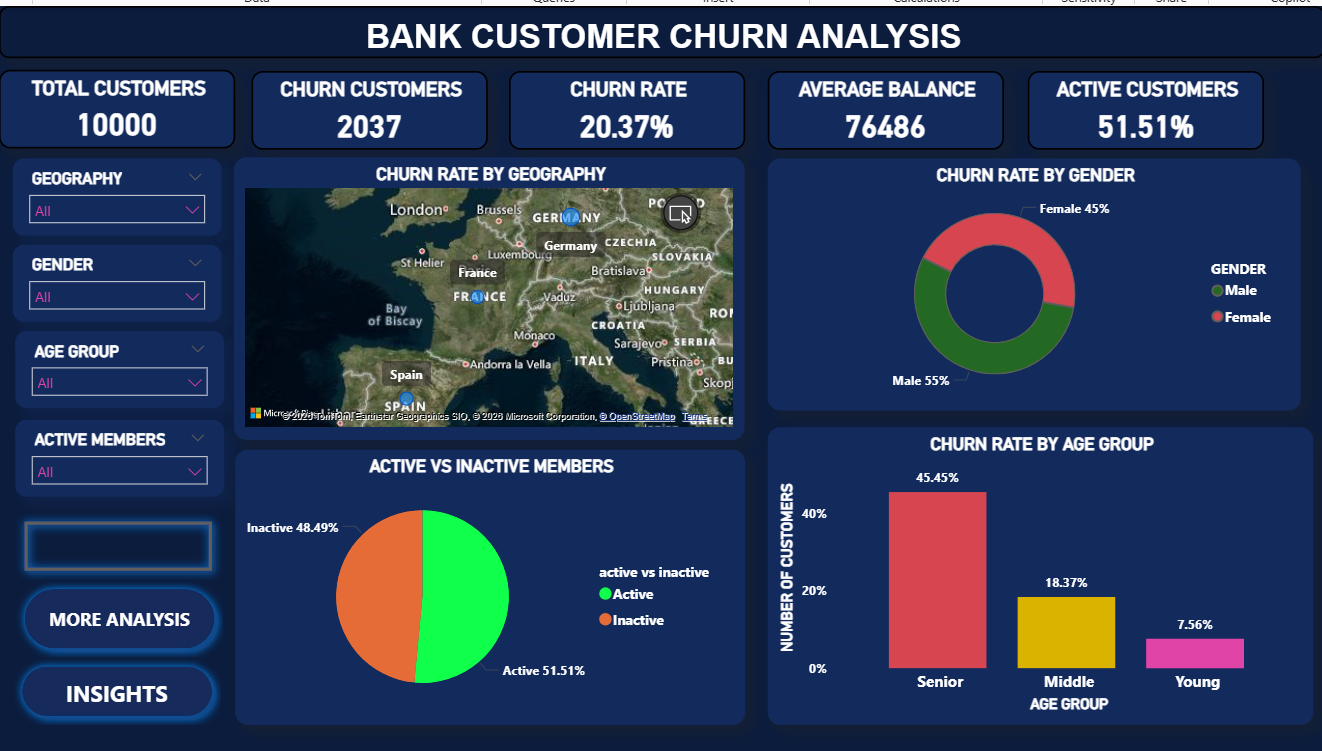

The dashboard page shown, as its layout file describes it:
{"tool":"powerbi","page":{"name":"Churn overview","canvas":[1280,720],"ordinal":0},"visuals":[{"type":"textbox","title":"BANK CUSTOMER  CHURN ANALYSIS","box":[0,0,1280,50.7],"z":0},{"type":"card","title":"TOTAL CUSTOMERS","fields":{"Values":["Bank Customer Churn Prediction.Total Customers"]},"box":[0,61.5,228,76],"z":1000},{"type":"card","title":"CHURN CUSTOMERS","fields":{"Values":["Bank Customer Churn Prediction.Churned Customers"]},"box":[246.1,61.5,228,76],"z":2000},{"type":"card","title":"CHURN RATE ","fields":{"Values":["Bank Customer Churn Prediction.Churn Rate"]},"box":[492.2,62.7,228,76],"z":3000},{"type":"card","title":"AVERAGE BALANCE","fields":{"Values":["Bank Customer Churn Prediction.Avg Balance"]},"box":[742,62.7,228,76],"z":4000},{"type":"card","title":"ACTIVE  CUSTOMERS","fields":{"Values":["Bank Customer Churn Prediction.Active %"]},"box":[989.3,63.9,228,76],"z":5000},{"type":"slicer","fields":{"Values":["Bank Customer Churn Prediction.Age Group"]},"box":[15.7,313.7,201.5,74.8],"z":6000},{"type":"slicer","fields":{"Values":["Bank Customer Churn Prediction.country"]},"box":[13.3,147.2,201.5,74.8],"z":7000},{"type":"slicer","fields":{"Values":["Bank Customer Churn Prediction.gender"]},"box":[13.3,230.4,201.5,74.8],"z":8000},{"type":"slicer","fields":{"Values":["Bank Customer Churn Prediction.active_member"]},"box":[15.7,399.3,201.5,74.8],"z":9000},{"type":"map","title":"CHURN RATE BY GEOGRAPHY","fields":{"Category":["Bank Customer Churn Prediction.country"],"Size":["Bank Customer Churn Prediction.Churn Rate"]},"box":[227.4,146.4,492.9,272.6],"z":10000},{"type":"donutChart","title":"CHURN RATE BY GENDER","fields":{"Category":["Bank Customer Churn Prediction.gender"],"Y":["CountNonNull(Bank Customer Churn Prediction.customer_id)"]},"box":[741.6,147.5,513.4,243.5],"z":11000},{"type":"clusteredColumnChart","title":"CHURN RATE BY AGE GROUP","fields":{"Category":["Bank Customer Churn Prediction.Age Group"],"Y":["Bank Customer Churn Prediction.Churn Rate"]},"box":[741.7,407.1,526.2,286.9],"z":12000},{"type":"pieChart","title":"ACTIVE VS INACTIVE MEMBERS","fields":{"Y":["CountNonNull(Bank Customer Churn Prediction.customer_id)"],"Category":["Bank Customer Churn Prediction.Active Status"]},"box":[228.6,428.6,491.7,265.5],"z":13000},{"type":"actionButton","box":[15.5,488.1,198.8,65.5],"z":14000},{"type":"actionButton","box":[13.1,628.6,201.2,65.5],"z":15000},{"type":"actionButton","box":[15.5,553.6,201.2,75],"z":16000}]}

Visuals, with their boxes on the page's 1280x720 design canvas (x1, y1, x2, y2). These are canvas units, not pixel positions in the 1322x751 screenshot, which may show the page scaled, cropped or inside an application window:
"BANK CUSTOMER  CHURN ANALYSIS" textbox: detection(0, 0, 1280, 51)
"TOTAL CUSTOMERS" card: detection(0, 62, 228, 138)
"CHURN CUSTOMERS" card: detection(246, 62, 474, 138)
"CHURN RATE " card: detection(492, 63, 720, 139)
"AVERAGE BALANCE" card: detection(742, 63, 970, 139)
"ACTIVE  CUSTOMERS" card: detection(989, 64, 1217, 140)
slicer - Bank Customer Churn Prediction.Age Group: detection(16, 314, 217, 388)
slicer - Bank Customer Churn Prediction.country: detection(13, 147, 215, 222)
slicer - Bank Customer Churn Prediction.gender: detection(13, 230, 215, 305)
slicer - Bank Customer Churn Prediction.active_member: detection(16, 399, 217, 474)
"CHURN RATE BY GEOGRAPHY" map: detection(227, 146, 720, 419)
"CHURN RATE BY GENDER" donutChart: detection(742, 148, 1255, 391)
"CHURN RATE BY AGE GROUP" clusteredColumnChart: detection(742, 407, 1268, 694)
"ACTIVE VS INACTIVE MEMBERS" pieChart: detection(229, 429, 720, 694)
actionButton: detection(16, 488, 214, 554)
actionButton: detection(13, 629, 214, 694)
actionButton: detection(16, 554, 217, 629)
